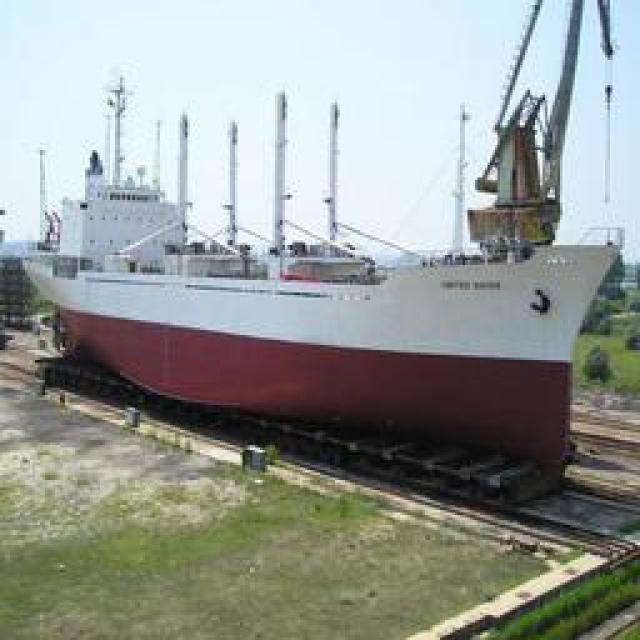Ship: (30, 26, 618, 491)
